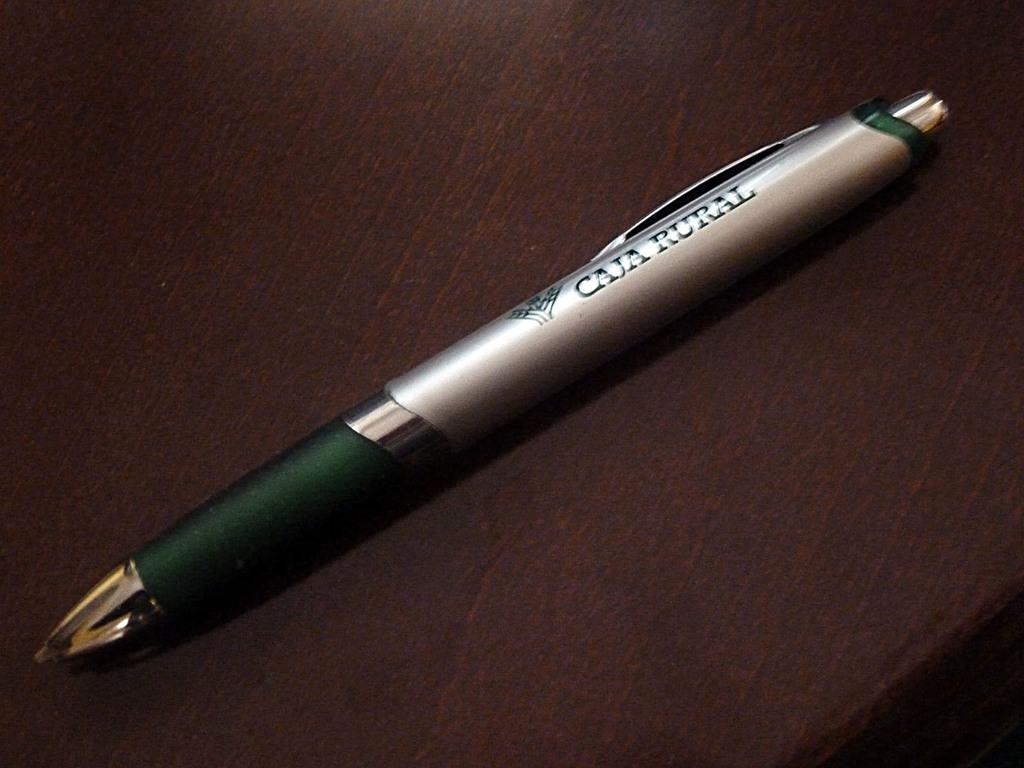pen: (1, 95, 956, 685)
